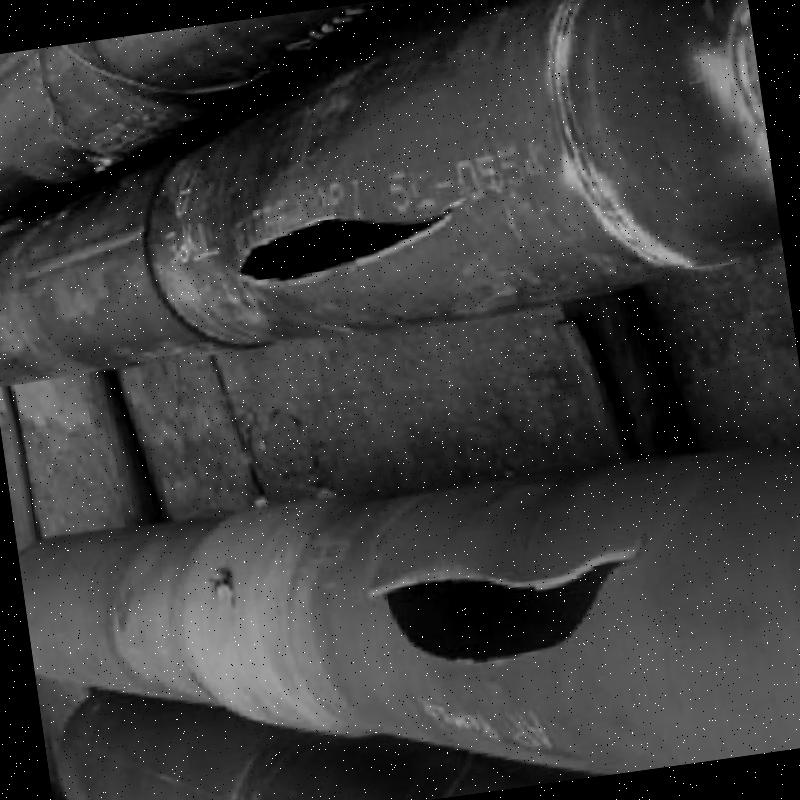Fracture: (354, 537, 630, 690), (210, 170, 413, 291)
